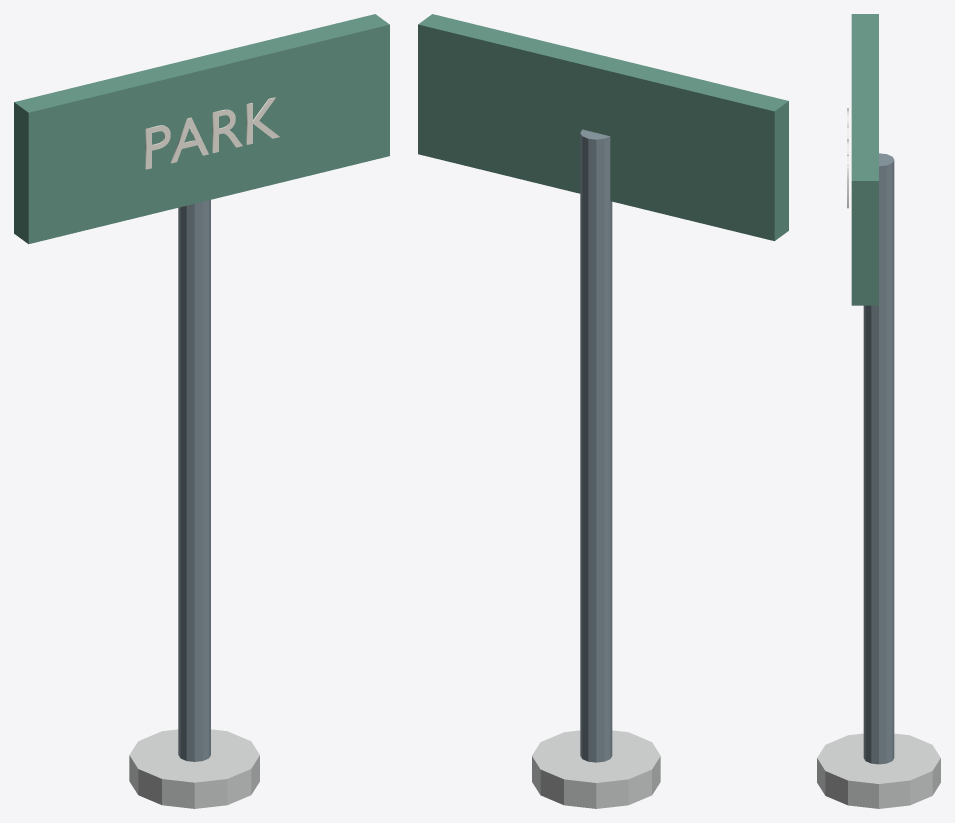
Rendered from park.glb.
3 renders of one model, left to right at view 1: azimuth 30°, elevation 25°; view 2: azimuth 150°, elevation 25°; view 3: azimuth 270°, elevation 25°, orthographic. The views are drawn at different scales.
Visible parts, largest first — view 1: park_002, park_000, park_001, park_003; view 2: park_002, park_000, park_001; view 3: park_000, park_002, park_001.
Boxes of the visible parts, x1,y1,x2,y2 form: park_002: (14, 14, 389, 244); park_000: (178, 200, 210, 761); park_001: (129, 729, 259, 808); park_003: (145, 97, 279, 169); park_002: (418, 14, 788, 240); park_000: (580, 129, 612, 762); park_001: (532, 730, 660, 808); park_000: (863, 153, 894, 764); park_002: (851, 14, 878, 305); park_001: (817, 733, 940, 808).
Size of the model in its own units: 1.15 by 2.2 by 0.36.
